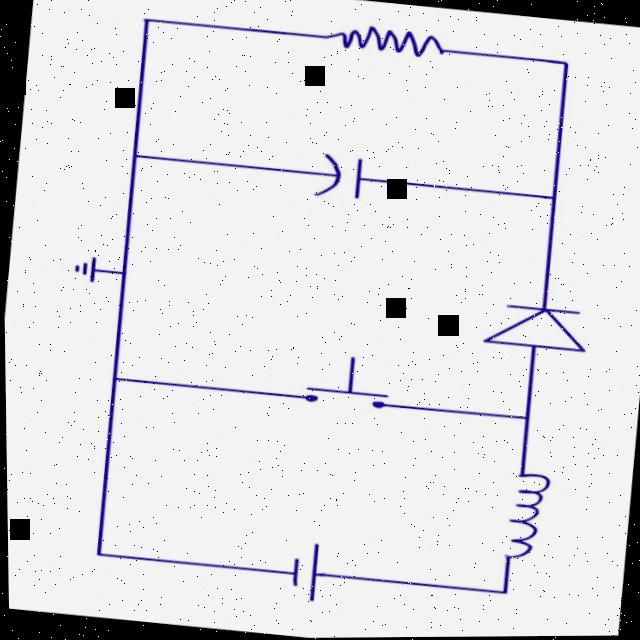capacitor: (276, 141, 386, 211)
diode: (465, 286, 609, 382)
ground: (51, 240, 111, 293)
inductor: (466, 455, 560, 575)
resistor: (304, 12, 464, 80)
source: (260, 533, 350, 618)
switch: (262, 342, 403, 432)
